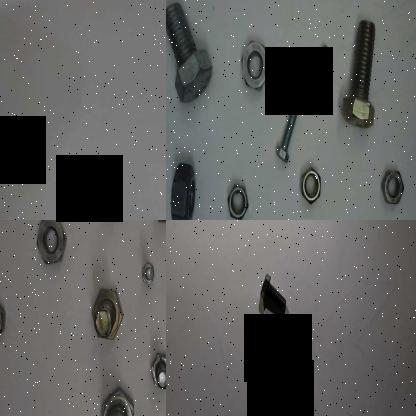Bolts: (336, 17, 384, 134), (166, 0, 215, 108), (274, 89, 304, 165), (286, 40, 332, 82), (255, 271, 291, 317), (93, 386, 139, 416), (148, 351, 166, 398)
NUTS: (238, 37, 274, 101), (35, 220, 71, 274), (167, 158, 197, 220), (378, 166, 406, 212), (223, 179, 253, 220), (300, 163, 324, 211), (0, 295, 5, 345)
